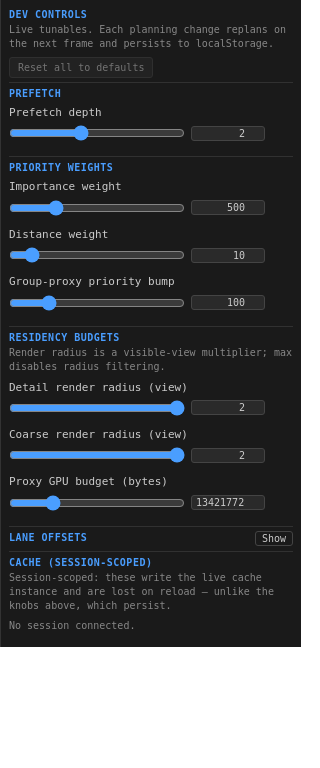
DevControls — cross-constraint warnings › shows lane-order inversion warning when offsets violate the canonical order
The width and height of the screenshot is (320, 768).
Click the button "Show" at (274, 538), box top-left (255, 531), bottom-right (293, 546)
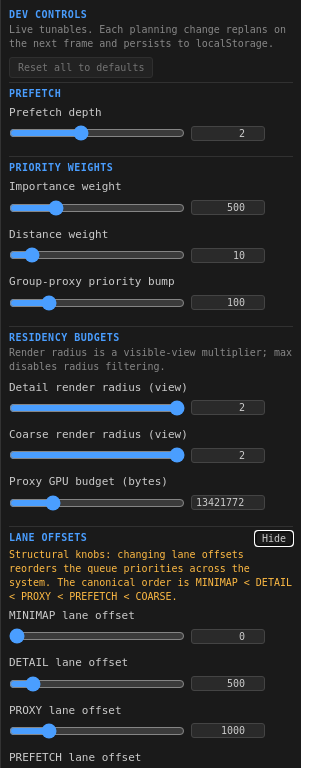
Set the slider labelled "DETAIL lane offset" to "2000" at (81, 684), box top-left (9, 676), bottom-right (185, 692)
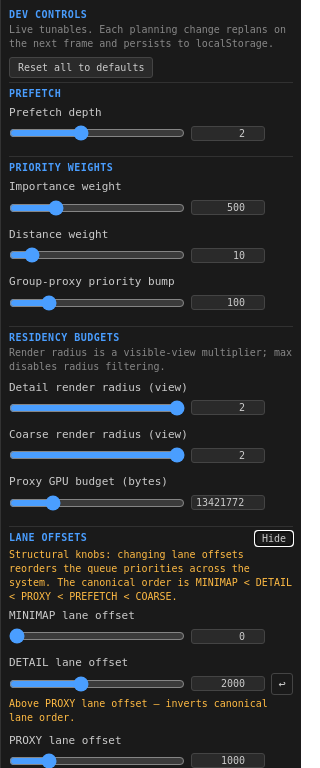
Check: the text "Above PROXY lane offset — inverts canonical lane order." is shown, box top-left (9, 696), bottom-right (293, 724)
